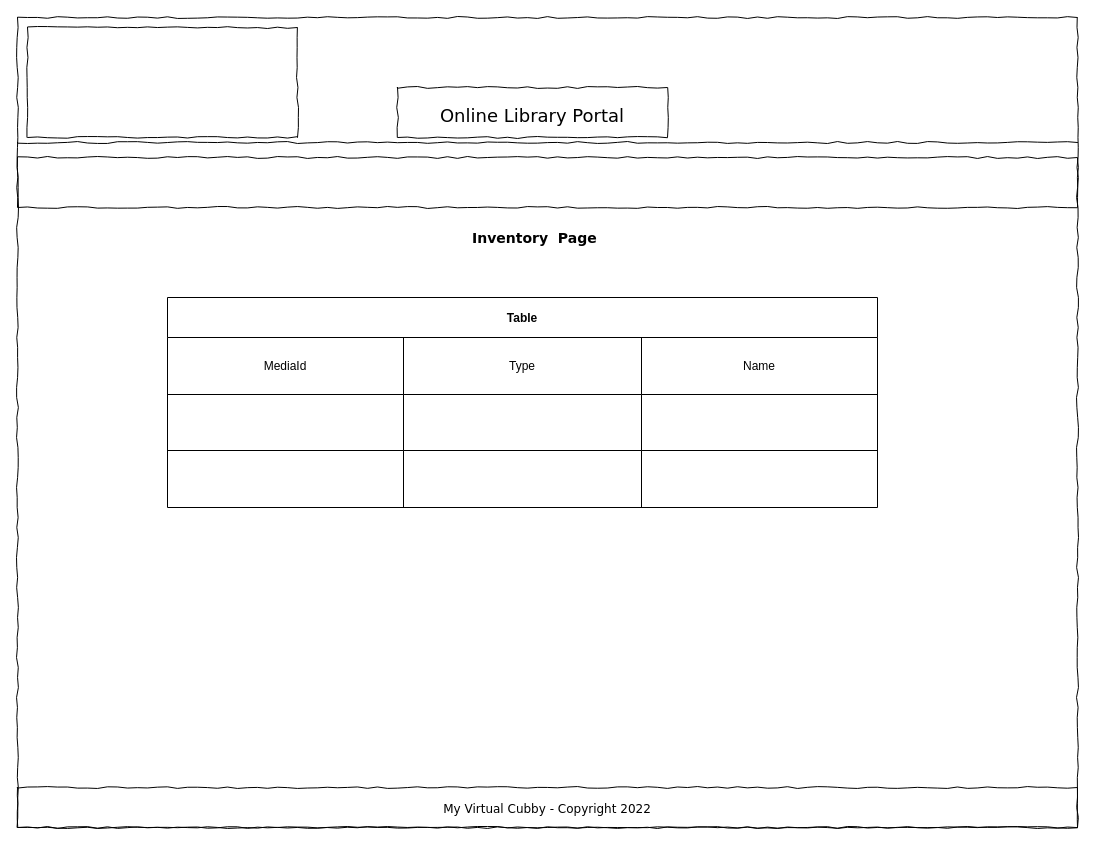
Image size: 1095x845. Some labels were removed from this diagram. Here are the shapes that lost their labels. From the top down, the centre of each, then its label:
At point 162,82: "My Virtual Cubby".
At point 547,182: "Home".
